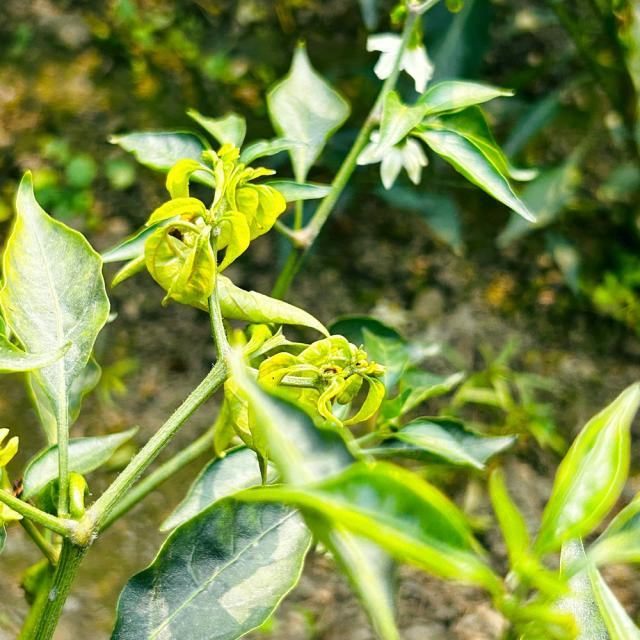Chilli_Leaf_Curl: (1, 3, 638, 638), (110, 445, 316, 639), (0, 168, 111, 413), (356, 77, 539, 224), (140, 141, 286, 310), (528, 380, 639, 558), (264, 39, 352, 184), (256, 333, 386, 430)
